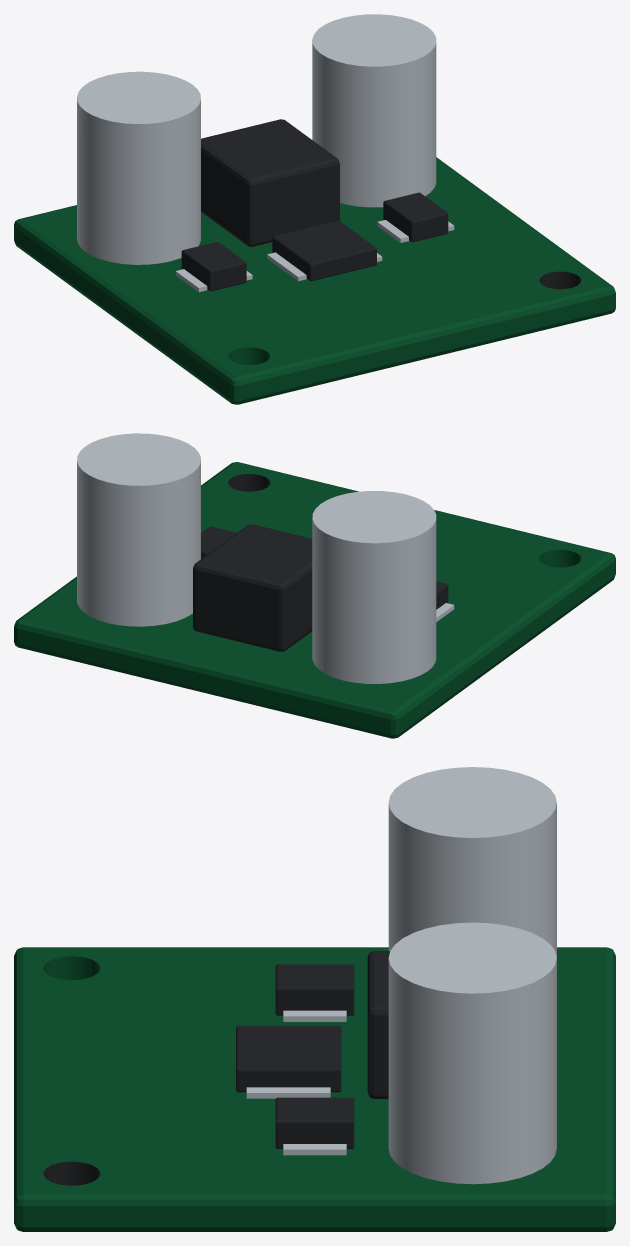
The model's file is pi_regulator_s13v30f5.glb.
3 renders of one model, top to bottom at view 1: azimuth 30°, elevation 25°; view 2: azimuth 150°, elevation 25°; view 3: azimuth 270°, elevation 25°, orthographic. The views are drawn at different scales.
Parts seen in each view (by area): view 1: part_pi_regulator_s13v30f5__pcb, part_pi_regulator_s13v30f5__steel, part_pi_regulator_s13v30f5__black_polymer; view 2: part_pi_regulator_s13v30f5__pcb, part_pi_regulator_s13v30f5__steel, part_pi_regulator_s13v30f5__black_polymer; view 3: part_pi_regulator_s13v30f5__pcb, part_pi_regulator_s13v30f5__steel, part_pi_regulator_s13v30f5__black_polymer.
Boxes of the visible parts, <box> form: part_pi_regulator_s13v30f5__pcb: <box>14,157,615,404</box>; part_pi_regulator_s13v30f5__steel: <box>77,14,454,292</box>; part_pi_regulator_s13v30f5__black_polymer: <box>181,119,448,291</box>; part_pi_regulator_s13v30f5__pcb: <box>14,462,615,738</box>; part_pi_regulator_s13v30f5__steel: <box>77,433,454,683</box>; part_pi_regulator_s13v30f5__black_polymer: <box>193,524,448,651</box>; part_pi_regulator_s13v30f5__pcb: <box>14,947,615,1231</box>; part_pi_regulator_s13v30f5__steel: <box>246,767,556,1184</box>; part_pi_regulator_s13v30f5__black_polymer: <box>236,951,389,1148</box>.
Size of the model in its own units: 0.0229 by 0.00957 by 0.0229.
